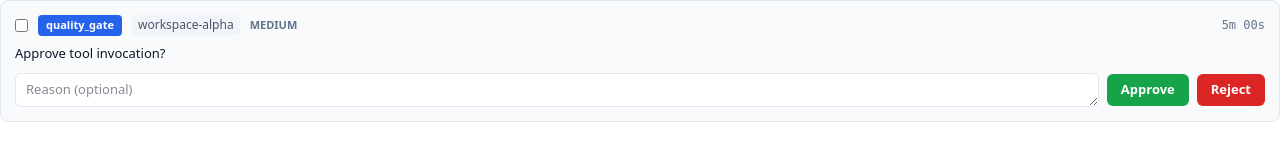
Test: GateQueue › Approve/Reject buttons disabled while the request is in-flight
The image size is (1280, 160).
Click the button "Approve" at (1148, 90), box [1107,74,1189,106]
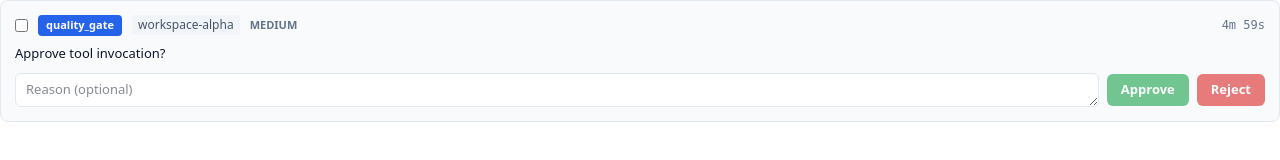
Expected: the button "Approve" is disabled, [1107,74,1189,106]
Expected: the button "Reject" is disabled, [1197,74,1265,106]
